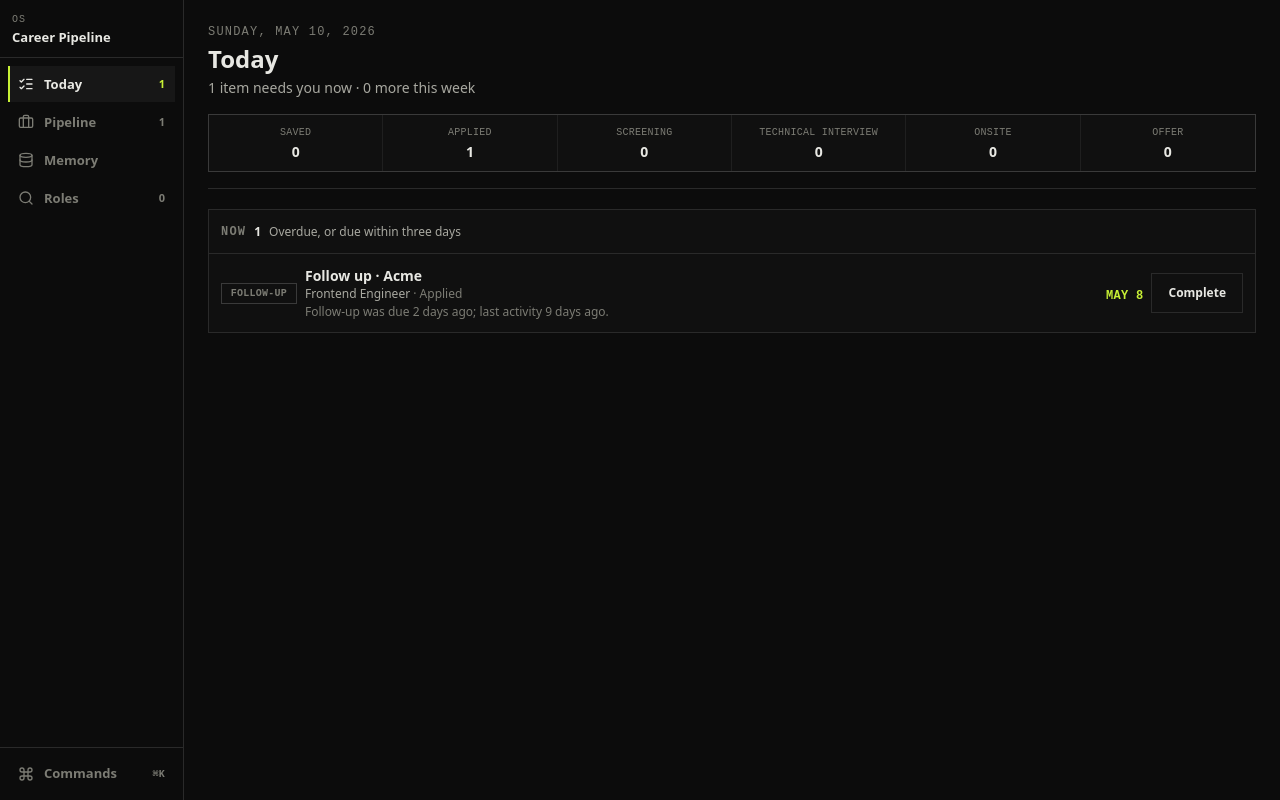
it: Today inspector › opens a row into the inspector and marks the originating row
This screenshot has width=1280, height=800.
Expected: the navigation bar named "Global navigation" is shown, x1=0 y1=0 x2=184 y2=799
What coordinates should you click on to do the following:
click the button "Acme"
I would click on:
 (338, 276)
Its box is x1=305 y1=266 x2=1060 y2=320.
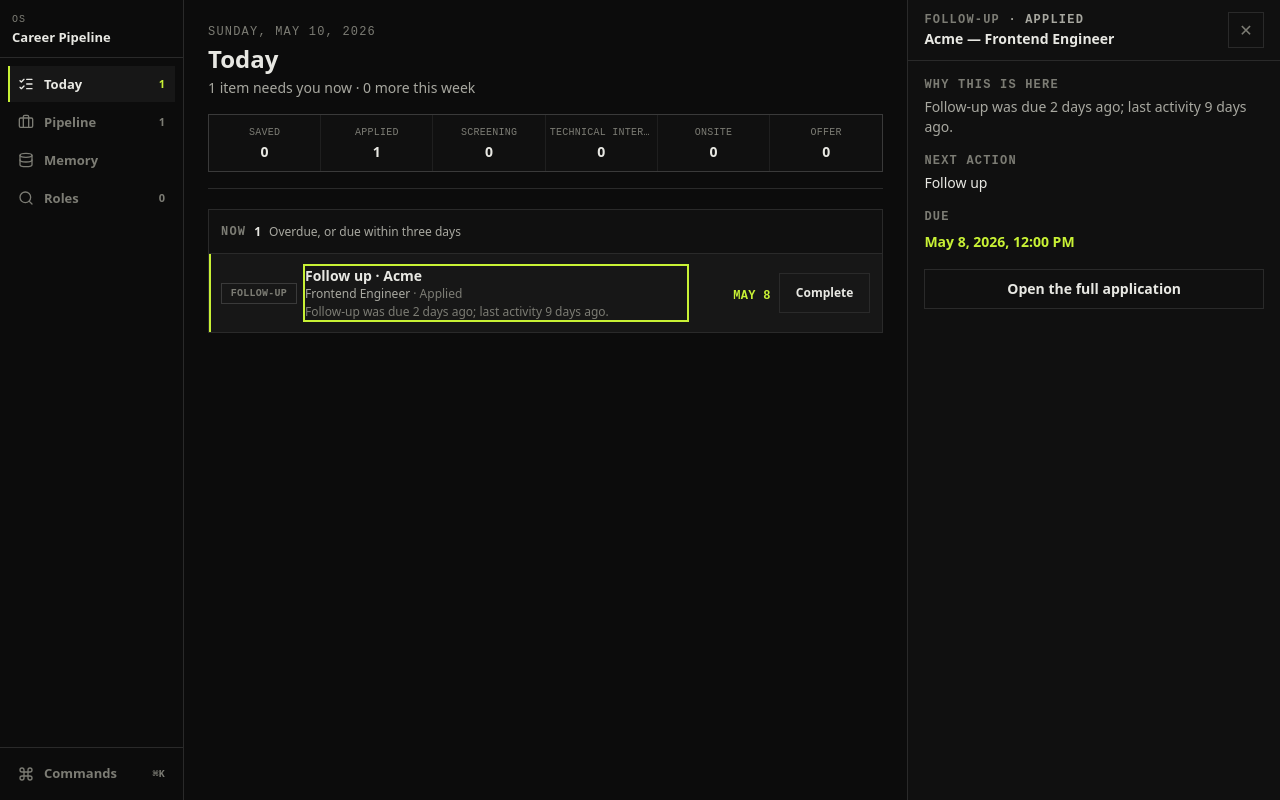
Result: the element named "Follow-up details" is shown at x1=907 y1=0 x2=1279 y2=799
